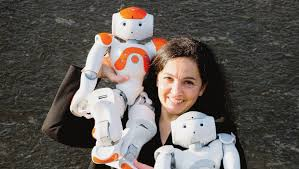nao: (68, 4, 166, 169), (144, 105, 254, 169)
